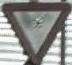Give way: (1, 2, 65, 57)
